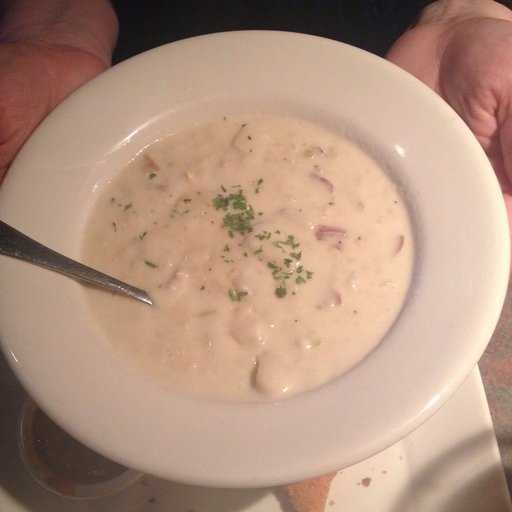soup: (44, 86, 421, 418)
